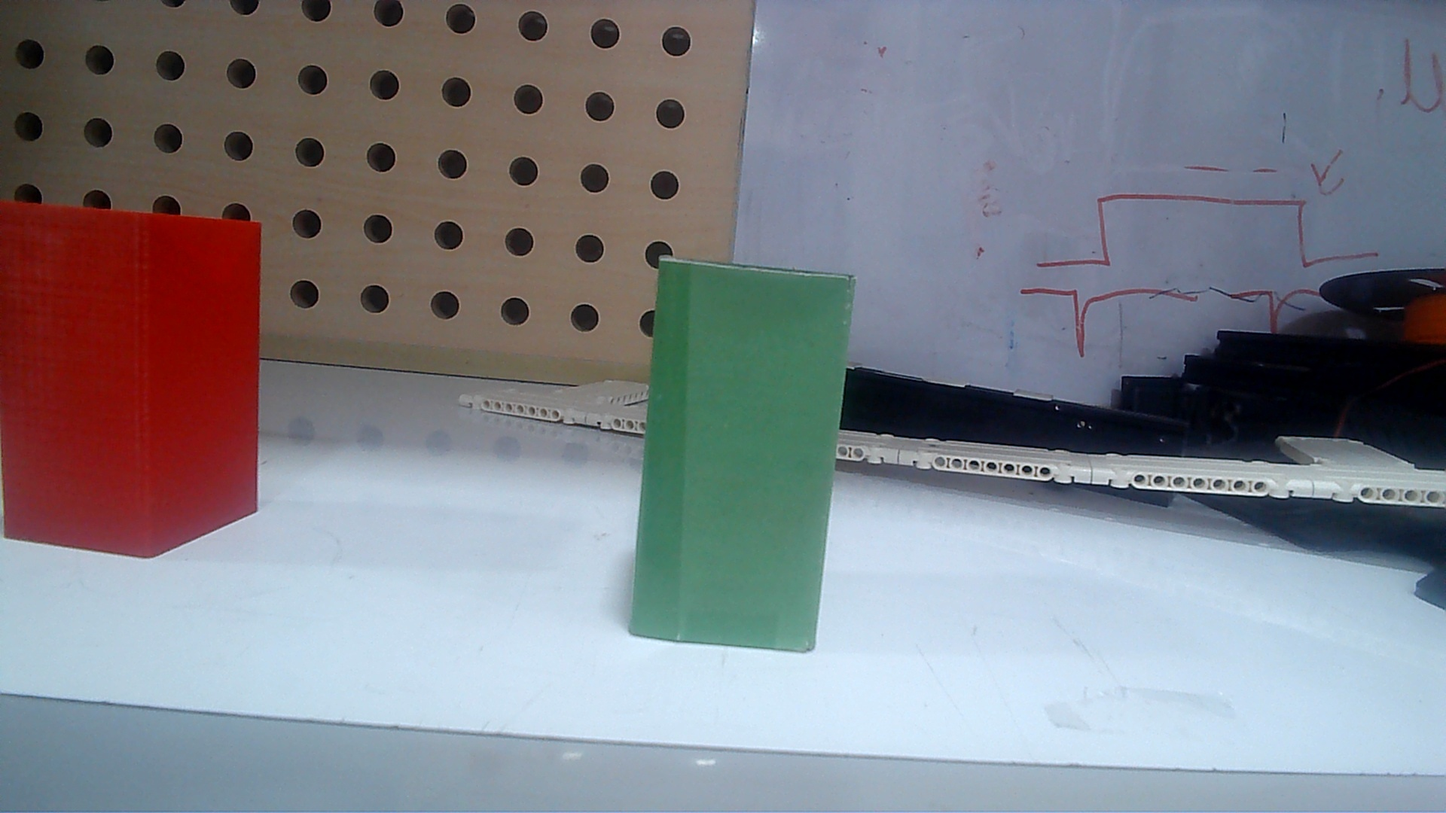green: (627, 256, 860, 656)
